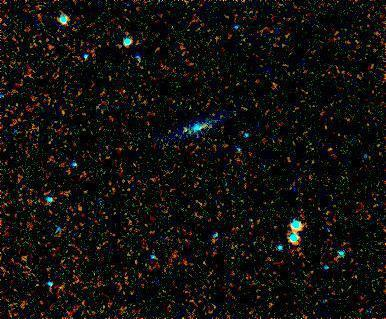star: (168, 116, 198, 146)
